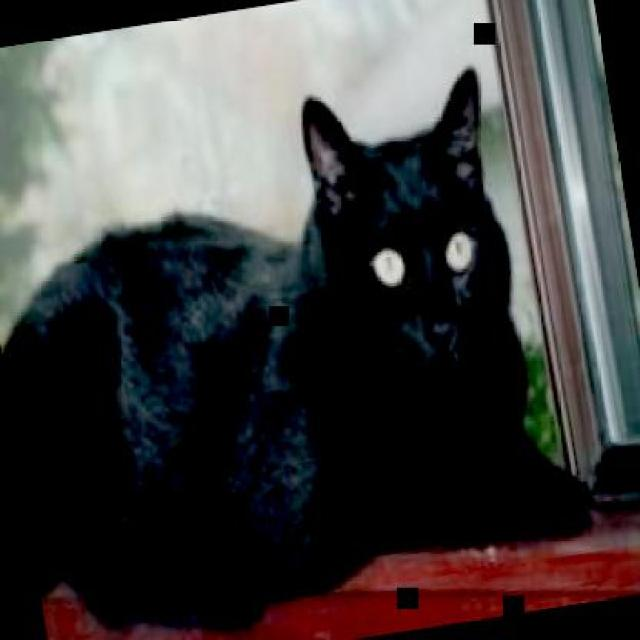cat: (0, 54, 603, 638)
